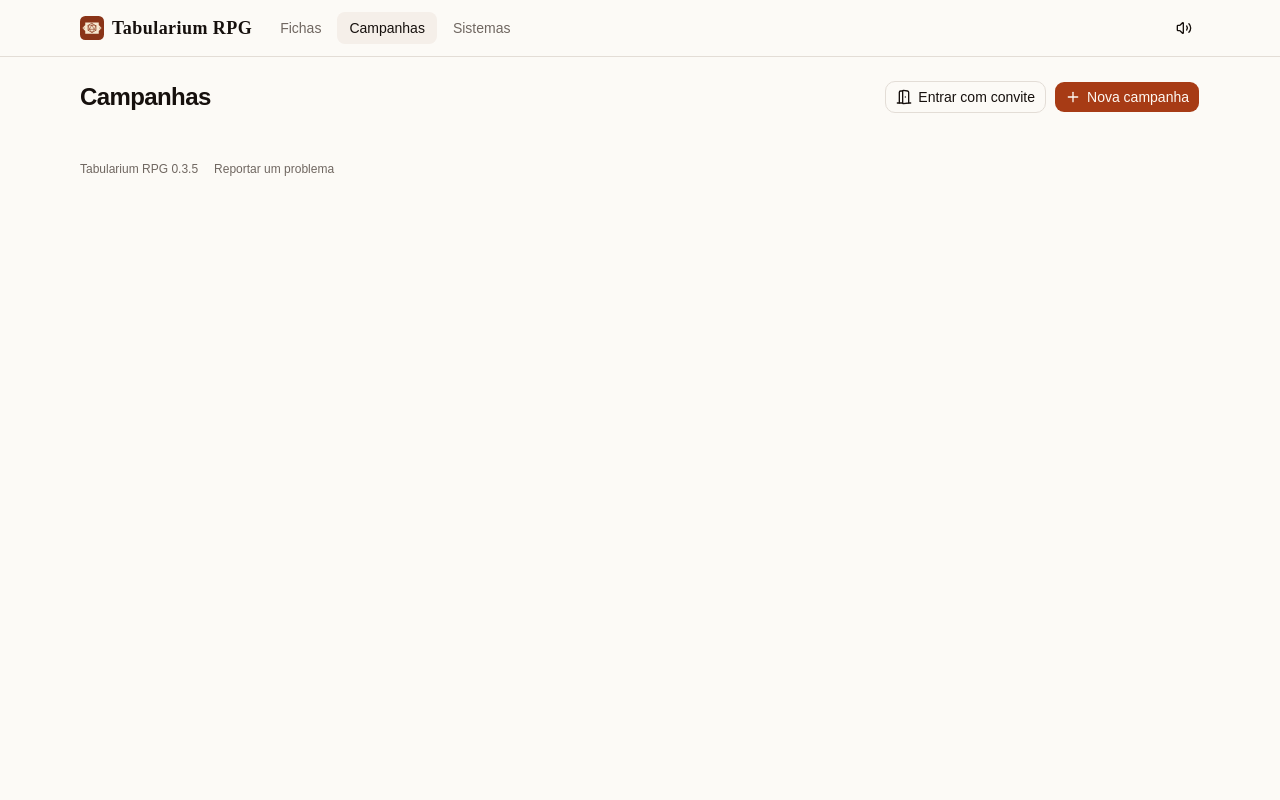
Test: Jogadora › mostra o erro de um convite inválido sem sair do diálogo
The width and height of the screenshot is (1280, 800).
Click the button "Entrar com convite": coordinates (966, 97) [885,81,1046,113]
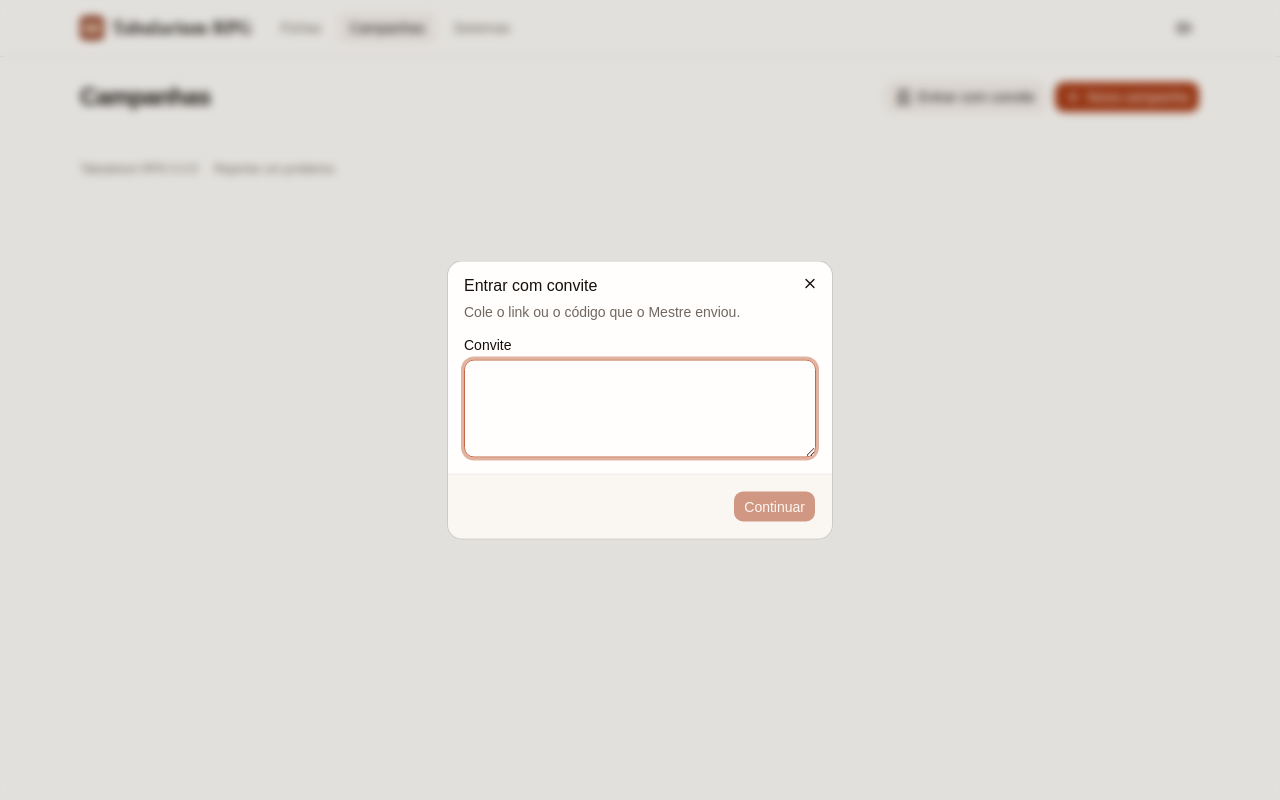
In the text box labelled "Convite": coordinates (640, 408) [464,360,816,458], type "isso não é um convite"
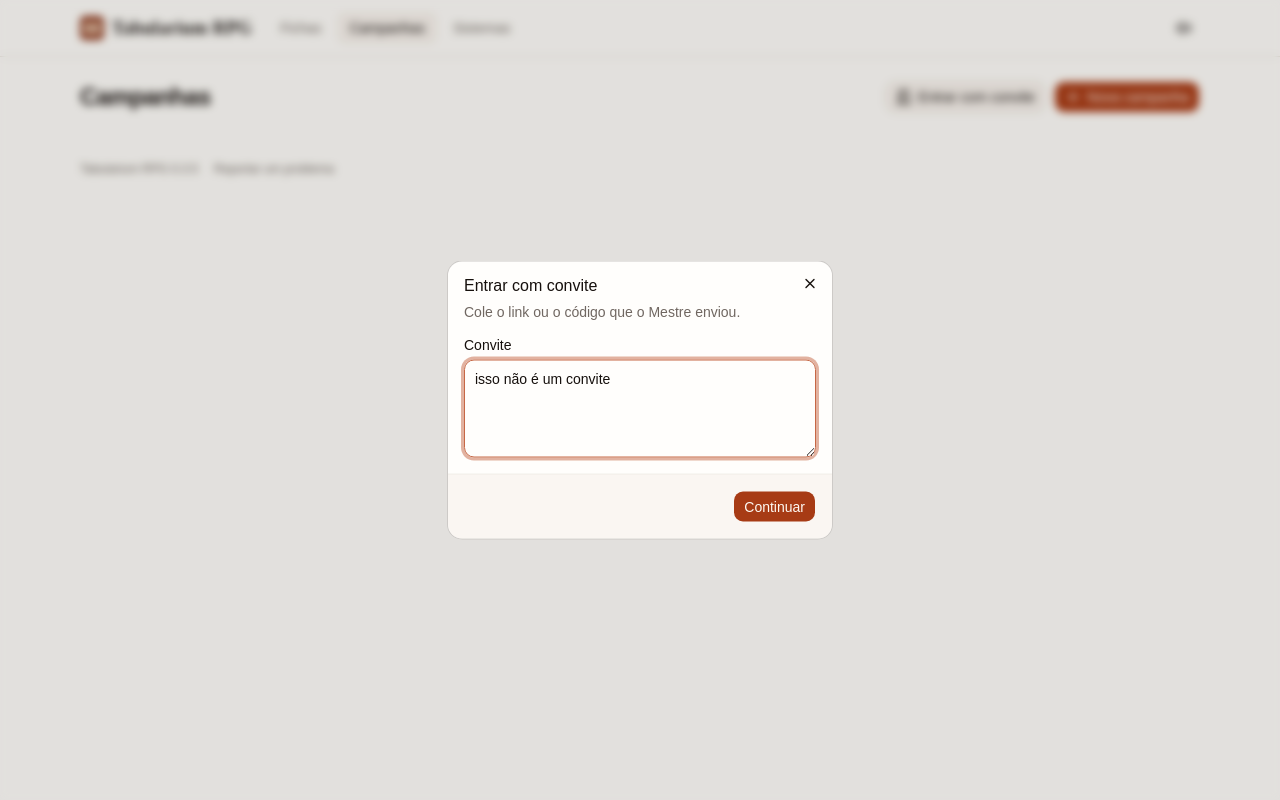
Click the button "Continuar": coordinates (775, 506) [733,490,816,522]
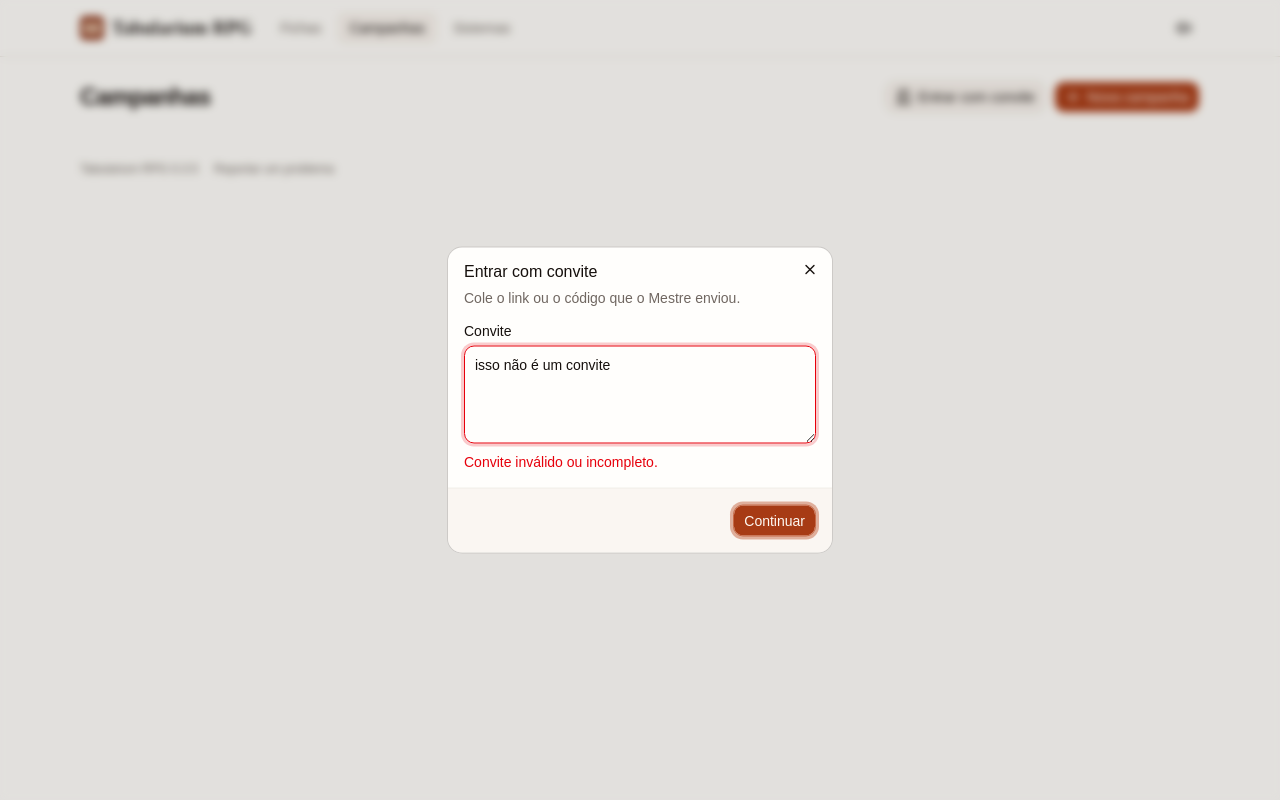
Expected: the text "Convite inválido ou incompleto." is shown, [464,454,658,470]
